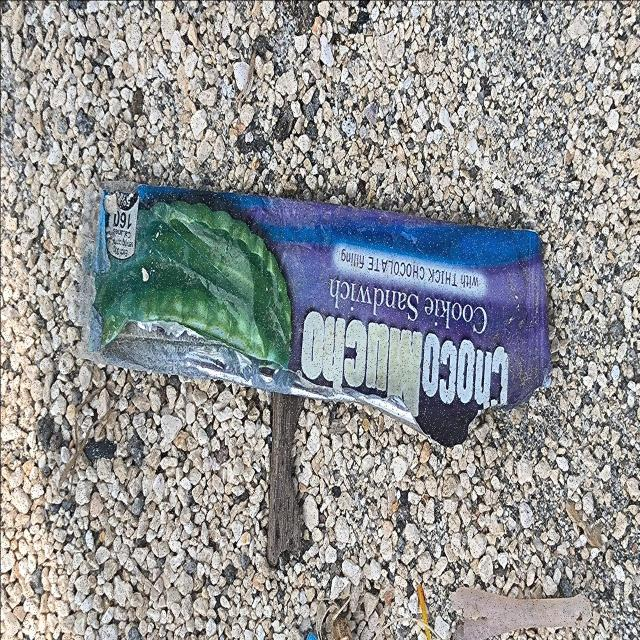plastic_waste: (68, 170, 556, 450)
